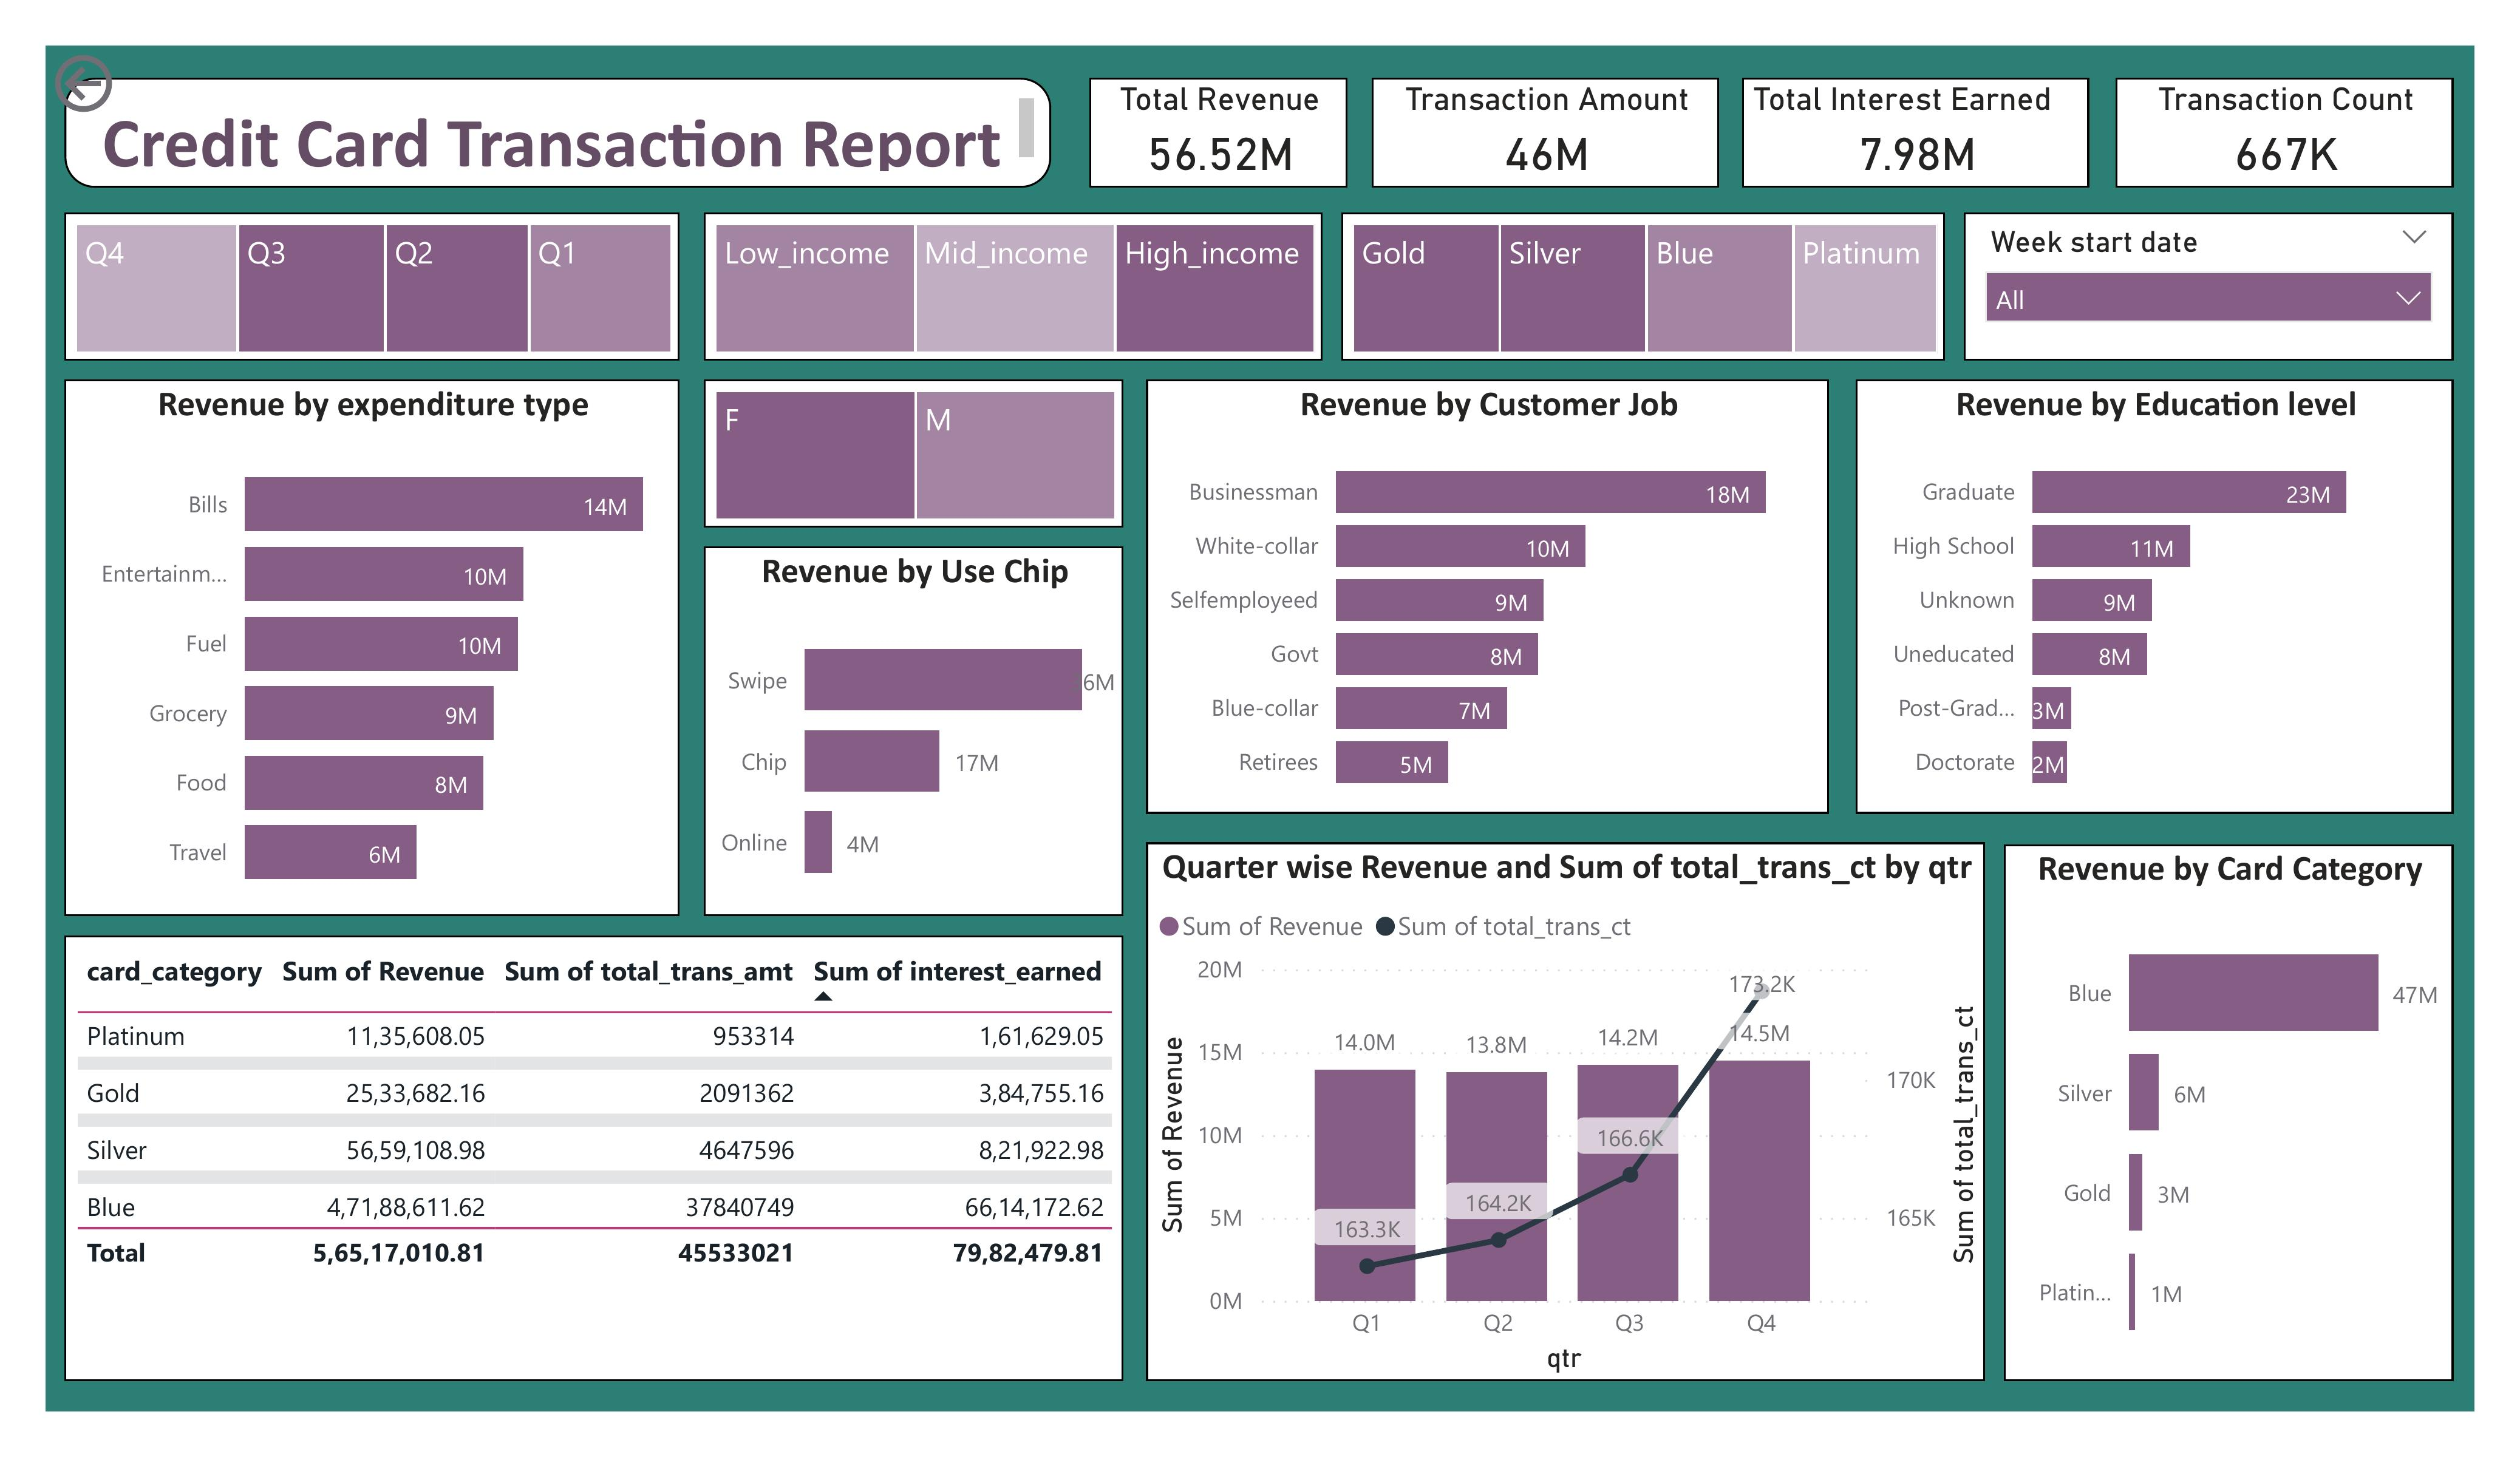

What the dashboard file says about the page in this screenshot:
{"tool":"powerbi","page":{"name":"Credit Card Report","canvas":[1280,720],"ordinal":1},"visuals":[{"type":"textbox","box":[10.1,16.8,520.1,58.7],"z":0},{"type":"lineStackedColumnComboChart","title":"Quarter wise Revenue and Sum of total_trans_ct by qtr","fields":{"Category":["public cc_detail.qtr"],"Y":["Sum(public cc_detail.Revenue)"],"Y2":["Sum(public cc_detail.total_trans_ct)"]},"box":[579.7,419.5,442.2,284.9],"z":1000},{"type":"barChart","title":"Revenue by expenditure type","fields":{"Y":["Sum(public cc_detail.Revenue)"],"Category":["public cc_detail.exp_type"]},"box":[9.9,175.7,324.6,283.5],"z":2000},{"type":"barChart","title":"Revenue by Education level","fields":{"Category":["public cust_detail.education_level"],"Y":["Sum(public cc_detail.Revenue)"]},"box":[953.9,175.7,314.6,229.6],"z":3000},{"type":"barChart","title":"Revenue by Customer Job","fields":{"Category":["public cust_detail.customer_job"],"Y":["Sum(public cc_detail.Revenue)"]},"box":[579.7,175.7,360,229.6],"z":4000},{"type":"barChart","title":"Revenue by Card Category","fields":{"Category":["public cc_detail.card_category"],"Y":["Sum(public cc_detail.Revenue)"]},"box":[1031.8,420.9,236.7,283.5],"z":5000},{"type":"barChart","title":"Revenue by Use Chip","fields":{"Category":["public cc_detail.use_chip"],"Y":["Sum(public cc_detail.Revenue)"]},"box":[347.2,263.6,221.1,195.6],"z":6000},{"type":"tableEx","fields":{"Values":["public cc_detail.card_category","Sum(public cc_detail.Revenue)","Sum(public cc_detail.total_trans_amt)","Sum(public cc_detail.interest_earned)"]},"box":[9.9,469.1,558.4,235.3],"z":7000},{"type":"actionButton","box":[0,0,100,40],"z":8000},{"type":"card","title":"Total Revenue","fields":{"Values":["Sum(public cc_detail.Revenue)"]},"box":[549.9,17,136.1,58.1],"z":9000},{"type":"card","title":"Transaction Amount","fields":{"Values":["Sum(public cc_detail.total_trans_amt)"]},"box":[698.7,17,182.8,58.1],"z":10000},{"type":"card","title":"Total Interest Earned","fields":{"Values":["Sum(public cc_detail.interest_earned)"]},"box":[894.3,17,182.8,58.1],"z":11000},{"type":"card","title":"Transaction Count","fields":{"Values":["Sum(public cc_detail.total_trans_ct)"]},"box":[1091.3,17,177.2,58.1],"z":12000},{"type":"slicer","fields":{"Values":["public cc_detail.week_start_date"]},"box":[1010.6,87.9,258,78],"z":13000},{"type":"treemap","fields":{"Group":["public cc_detail.qtr"],"Values":["Avg(public cc_detail.client_num)"]},"box":[9.9,87.9,324.6,78],"z":14000},{"type":"treemap","fields":{"Group":["public cust_detail.gender"],"Values":["Avg(public cc_detail.client_num)"]},"box":[347.2,175.7,221.1,78],"z":15000},{"type":"treemap","fields":{"Group":["public cc_detail.card_category"],"Values":["Avg(public cc_detail.client_num)"]},"box":[683.1,87.9,317.5,78],"z":16000},{"type":"treemap","fields":{"Values":["Avg(public cc_detail.client_num)"],"Group":["public cust_detail.Income_group"]},"box":[347.2,87.9,326,78],"z":17000}]}

Visuals, with their boxes in screenshot pixels (x1, y1, x2, y2):
textbox: select_region(65, 78, 1052, 189)
"Quarter wise Revenue and Sum of total_trans_ct by qtr" lineStackedColumnComboChart: select_region(1146, 841, 1984, 1382)
"Revenue by expenditure type" barChart: select_region(64, 379, 680, 917)
"Revenue by Education level" barChart: select_region(1856, 379, 2453, 815)
"Revenue by Customer Job" barChart: select_region(1146, 379, 1829, 815)
"Revenue by Card Category" barChart: select_region(2003, 844, 2453, 1382)
"Revenue by Use Chip" barChart: select_region(704, 546, 1124, 917)
tableEx - public cc_detail.card_category x Sum(public cc_detail.Revenue): select_region(64, 936, 1124, 1382)
actionButton: select_region(46, 46, 236, 121)
"Total Revenue" card: select_region(1089, 78, 1347, 188)
"Transaction Amount" card: select_region(1371, 78, 1718, 188)
"Total Interest Earned" card: select_region(1743, 78, 2089, 188)
"Transaction Count" card: select_region(2116, 78, 2453, 188)
slicer - public cc_detail.week_start_date: select_region(1963, 212, 2453, 360)
treemap - public cc_detail.qtr x Avg(public cc_detail.client_num): select_region(64, 212, 680, 360)
treemap - public cust_detail.gender x Avg(public cc_detail.client_num): select_region(704, 379, 1124, 527)
treemap - public cc_detail.card_category x Avg(public cc_detail.client_num): select_region(1342, 212, 1944, 360)
treemap - Avg(public cc_detail.client_num) x public cust_detail.Income_group: select_region(704, 212, 1323, 360)
